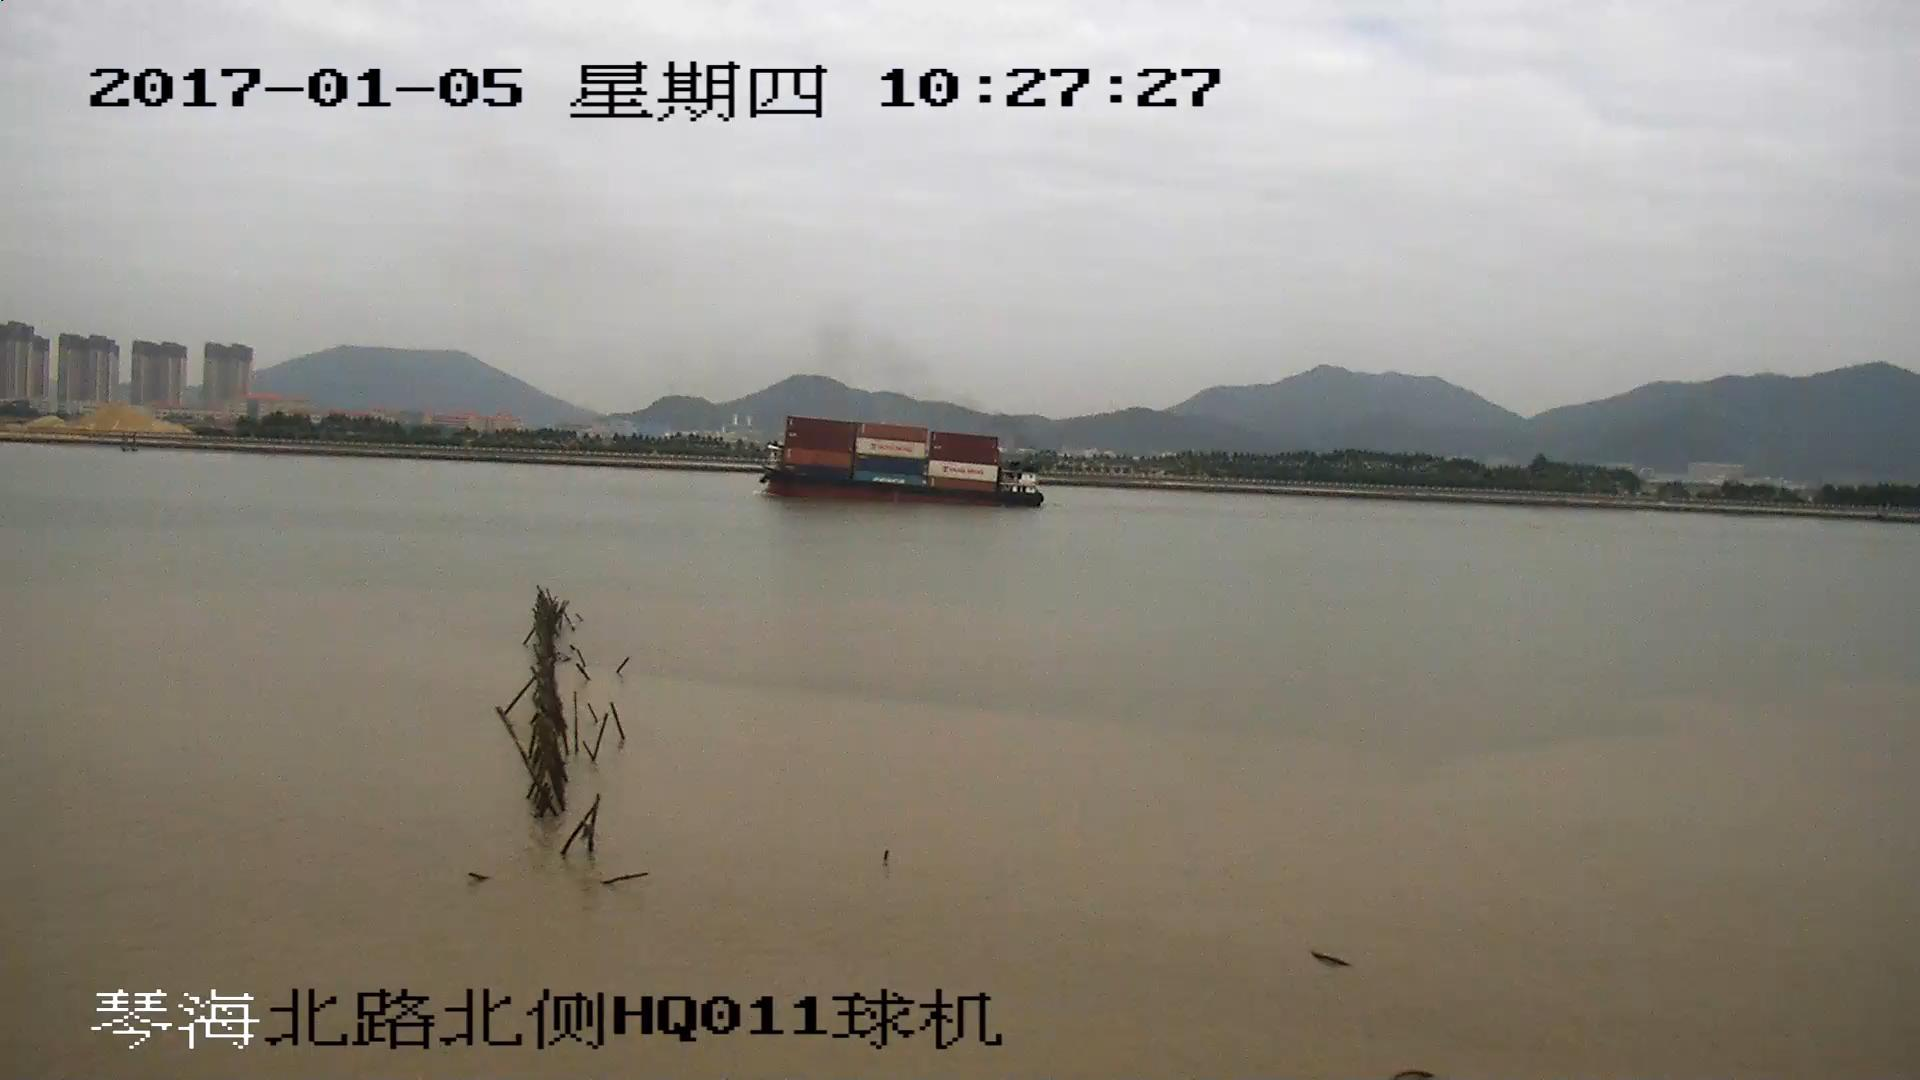Ship: (757, 419, 1040, 509)
